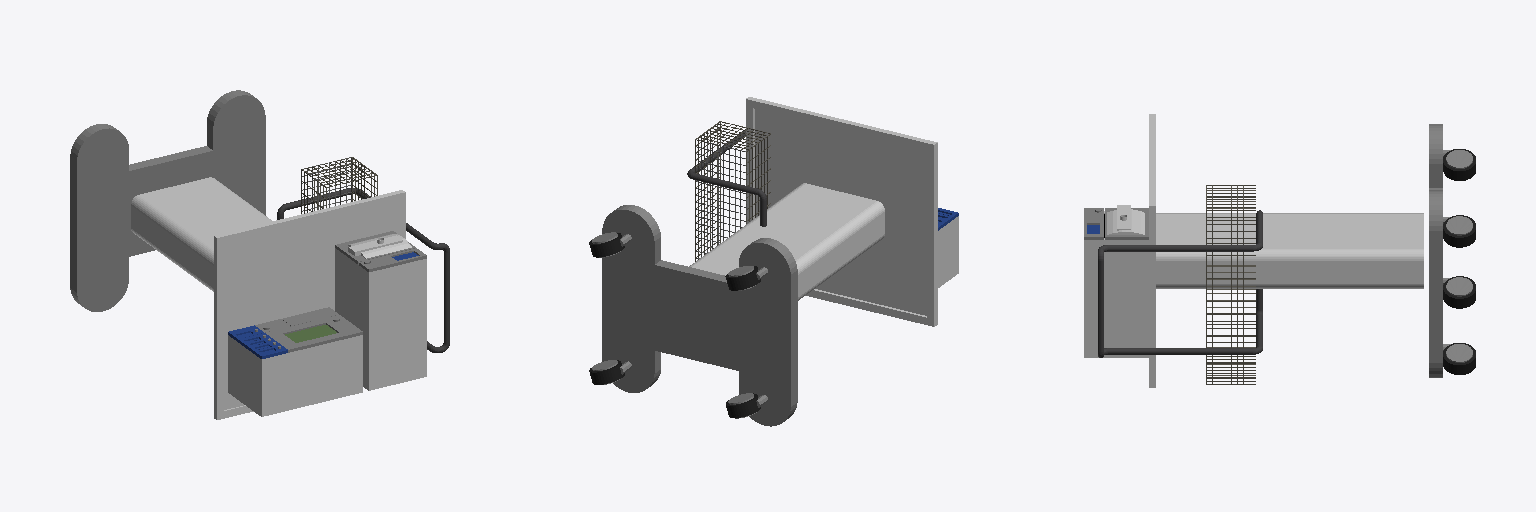
Rendered from HF-Chirurgie.obj.
3 views of the same model, side by side, from view 1: azimuth 30°, elevation 25°; view 2: azimuth 150°, elevation 25°; view 3: azimuth 270°, elevation 25° (orthographic).
Visible parts, largest first — view 1: 0_MT_GER_TE KUNSTSTOFF_PE__WEISS FLAT_PART, 0_MT_GER_TE FARBE__GRAU FLAT_PART, 0_MT_GER_TE KUNSTSTOFF_PE__WEISS SMOOTH_PART, 0_MT_GER_TE STAHL__ROSTFREI SMOOTH_PART, 0_MT_GER_TE FARBE__GRAU SMOOTH_PART, 0_MT_GER_TE METALL_STAHL__POLIERT, 0_MT_GER_TE FARBE__BLAU FLAT_PART; view 2: 0_MT_GER_TE KUNSTSTOFF_PE__WEISS FLAT_PART, 0_MT_GER_TE FARBE__GRAU FLAT_PART, 0_MT_GER_TE KUNSTSTOFF_PE__WEISS SMOOTH_PART, 0_MT_GER_TE FARBE__GRAU SMOOTH_PART, 0_MT_GER_TE METALL_STAHL__POLIERT, 0_MT_GER_TE ASPHALT SMOOTH_PART, 0_MT_GER_TE METALL_STAHL__MATT, 0_MT_GER_TE STAHL__ROSTFREI SMOOTH_PART; view 3: 0_MT_GER_TE KUNSTSTOFF_PE__WEISS SMOOTH_PART, 0_MT_GER_TE KUNSTSTOFF_PE__WEISS FLAT_PART, 0_MT_GER_TE FARBE__GRAU FLAT_PART, 0_MT_GER_TE STAHL__ROSTFREI SMOOTH_PART, 0_MT_GER_TE METALL_STAHL__POLIERT, 0_MT_GER_TE FARBE__GRAU SMOOTH_PART, 0_MT_GER_TE ASPHALT SMOOTH_PART, 0_MT_GER_TE ASPHALT FLAT_PART.
Boxes of the visible parts, box(x1,y1,x2,y2) form: 0_MT_GER_TE KUNSTSTOFF_PE__WEISS FLAT_PART: box(214, 190, 426, 419); 0_MT_GER_TE FARBE__GRAU FLAT_PART: box(70, 95, 426, 352); 0_MT_GER_TE KUNSTSTOFF_PE__WEISS SMOOTH_PART: box(131, 177, 411, 291); 0_MT_GER_TE STAHL__ROSTFREI SMOOTH_PART: box(277, 188, 449, 352); 0_MT_GER_TE FARBE__GRAU SMOOTH_PART: box(70, 90, 370, 348); 0_MT_GER_TE METALL_STAHL__POLIERT: box(301, 157, 377, 213); 0_MT_GER_TE FARBE__BLAU FLAT_PART: box(228, 252, 418, 358); 0_MT_GER_TE KUNSTSTOFF_PE__WEISS FLAT_PART: box(746, 97, 958, 326); 0_MT_GER_TE FARBE__GRAU FLAT_PART: box(592, 210, 797, 426); 0_MT_GER_TE KUNSTSTOFF_PE__WEISS SMOOTH_PART: box(689, 183, 884, 300); 0_MT_GER_TE FARBE__GRAU SMOOTH_PART: box(592, 205, 797, 421); 0_MT_GER_TE METALL_STAHL__POLIERT: box(695, 121, 770, 261); 0_MT_GER_TE ASPHALT SMOOTH_PART: box(589, 235, 760, 417); 0_MT_GER_TE METALL_STAHL__MATT: box(696, 139, 746, 258); 0_MT_GER_TE STAHL__ROSTFREI SMOOTH_PART: box(687, 129, 766, 226); 0_MT_GER_TE KUNSTSTOFF_PE__WEISS SMOOTH_PART: box(1107, 209, 1423, 288); 0_MT_GER_TE KUNSTSTOFF_PE__WEISS FLAT_PART: box(1084, 114, 1155, 387); 0_MT_GER_TE FARBE__GRAU FLAT_PART: box(1084, 150, 1472, 361); 0_MT_GER_TE STAHL__ROSTFREI SMOOTH_PART: box(1098, 210, 1262, 357); 0_MT_GER_TE METALL_STAHL__POLIERT: box(1206, 185, 1255, 384); 0_MT_GER_TE FARBE__GRAU SMOOTH_PART: box(1095, 124, 1472, 377); 0_MT_GER_TE ASPHALT SMOOTH_PART: box(1443, 163, 1475, 374); 0_MT_GER_TE ASPHALT FLAT_PART: box(1443, 149, 1475, 364).
Bounding box in the file's own units: 71.94 × 60 × 117.